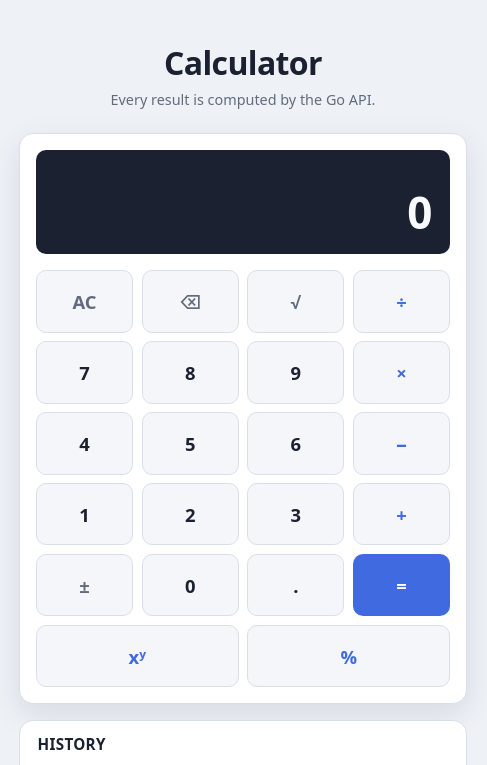
performing a calculation › records the calculation in history
Click the button "7" at (84, 372), box [36,341,133,404]
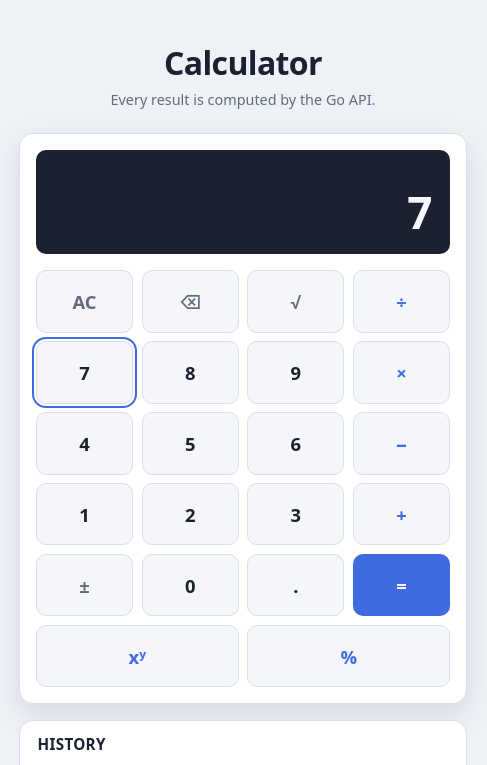
Click the button named "Multiply" at (402, 372), box [353,341,450,404]
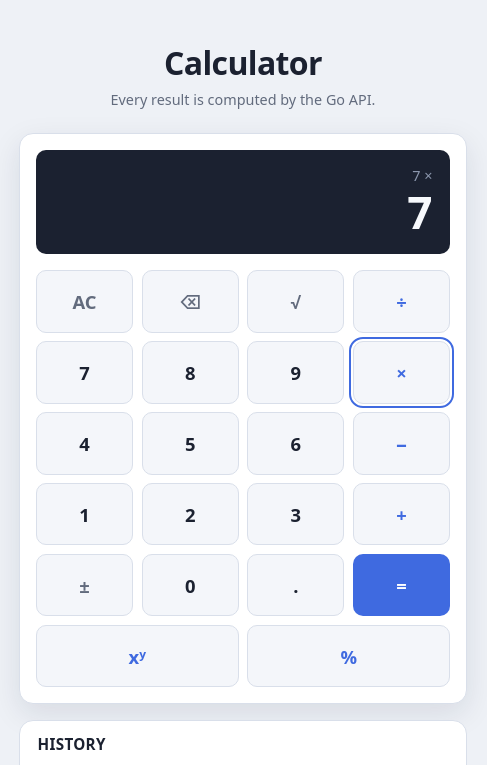
Click the button "8" at (190, 372), box [142,341,239,404]
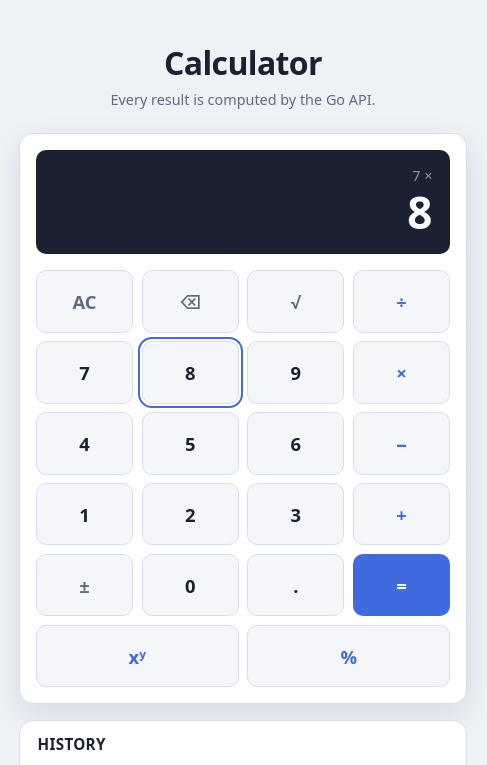
Click the button named "Equals" at (402, 585), box [353,554,450,616]
(page scrolled)
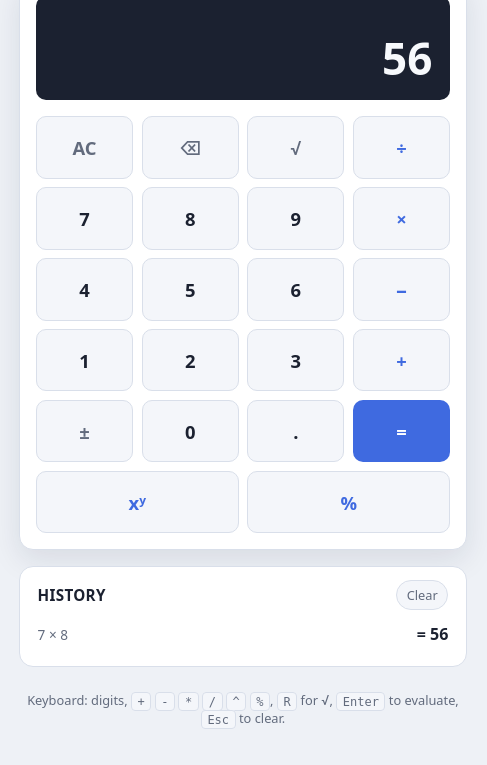
Expected: the text "7 × 8" is shown, [38,625,68,644]
Expected: the text "= 56" is shown, [417,623,448,645]
